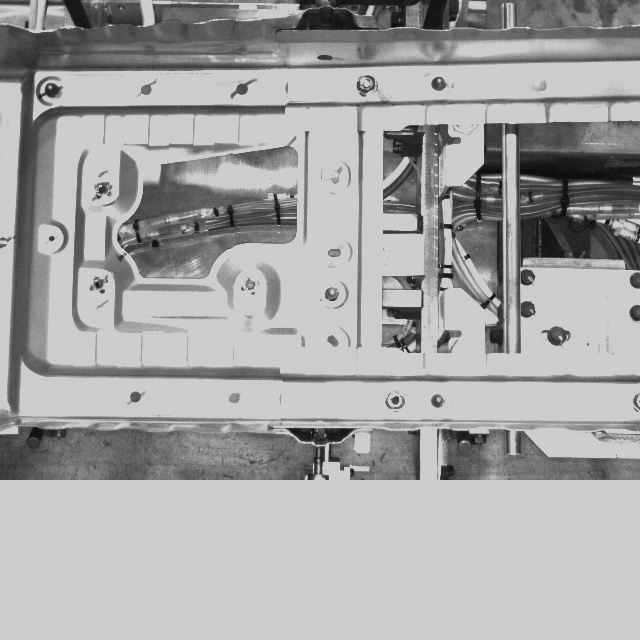base: (416, 122, 452, 356)
cross: (87, 272, 111, 296), (90, 179, 114, 202), (237, 274, 262, 296)
round: (354, 73, 380, 98), (382, 388, 408, 412)
